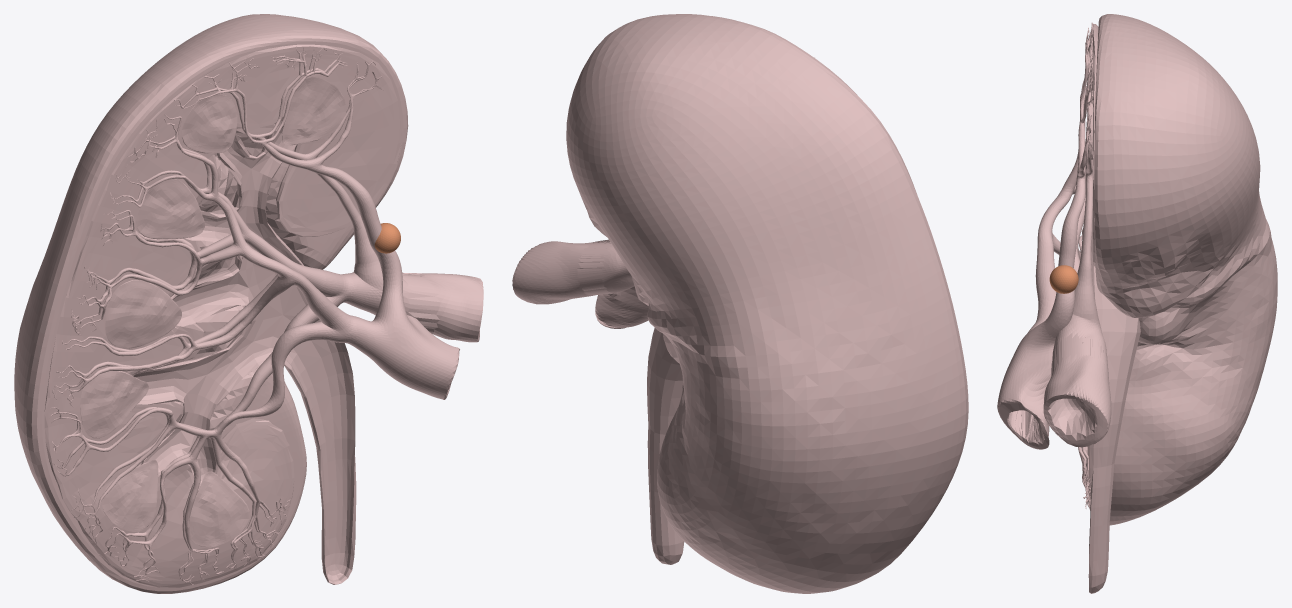
File: kidney_b212fce9.glb
3 views of the same model, side by side, from view 1: azimuth 30°, elevation 25°; view 2: azimuth 150°, elevation 25°; view 3: azimuth 270°, elevation 25° (orthographic). The views are drawn at different scales.
Visible parts, largest first — view 1: world; view 2: world; view 3: world.
Part boxes in pixels (x1,y1,x2,y2): world: [14, 14, 483, 593]; world: [512, 14, 968, 593]; world: [997, 14, 1277, 593].
Bounding box in the file's own units: 8.47 × 10.1 × 4.88.
